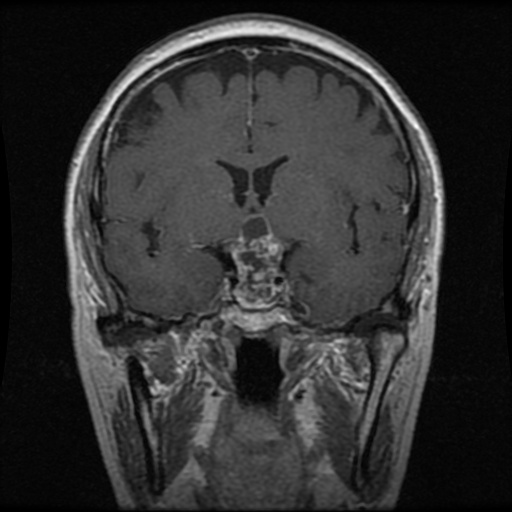pituitary: (231, 212, 286, 305)
